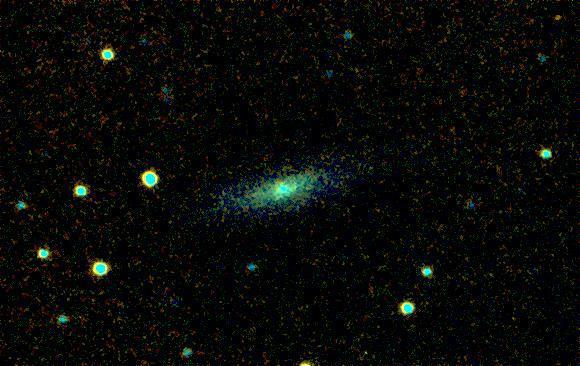star: (544, 1, 574, 31)
